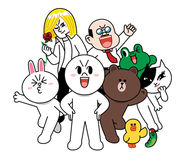line_brown: (103, 62, 142, 103)
